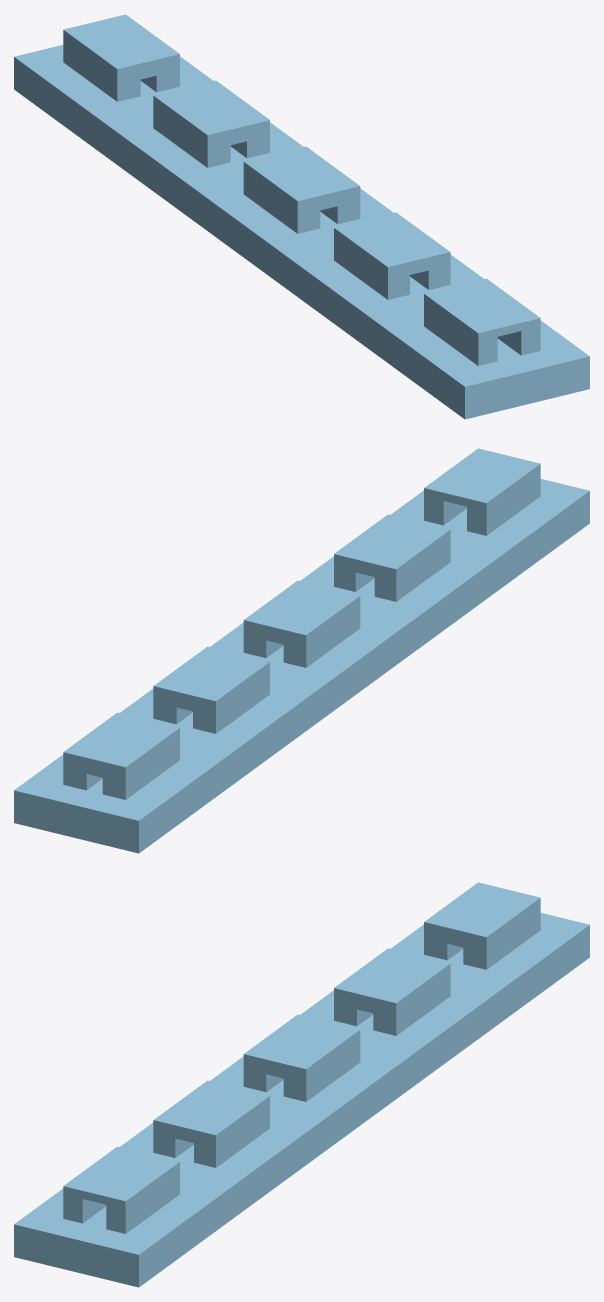
File: tunnel gym 2.obj
The picture shows the model from 3 angles, top to bottom: view 1: azimuth 30°, elevation 25°; view 2: azimuth 150°, elevation 25°; view 3: azimuth 330°, elevation 25°; orthographic projection.
Parts seen in each view (by area): view 1: Part_Studio_2_Copy_1_-_Part_1; view 2: Part_Studio_2_Copy_1_-_Part_1; view 3: Part_Studio_2_Copy_1_-_Part_1.
Part boxes in pixels (x1,y1,x2,y2): Part_Studio_2_Copy_1_-_Part_1: (14, 14, 589, 419); Part_Studio_2_Copy_1_-_Part_1: (14, 448, 589, 853); Part_Studio_2_Copy_1_-_Part_1: (14, 882, 589, 1287).
Bounding box in the file's own units: 4 × 2 × 25.
